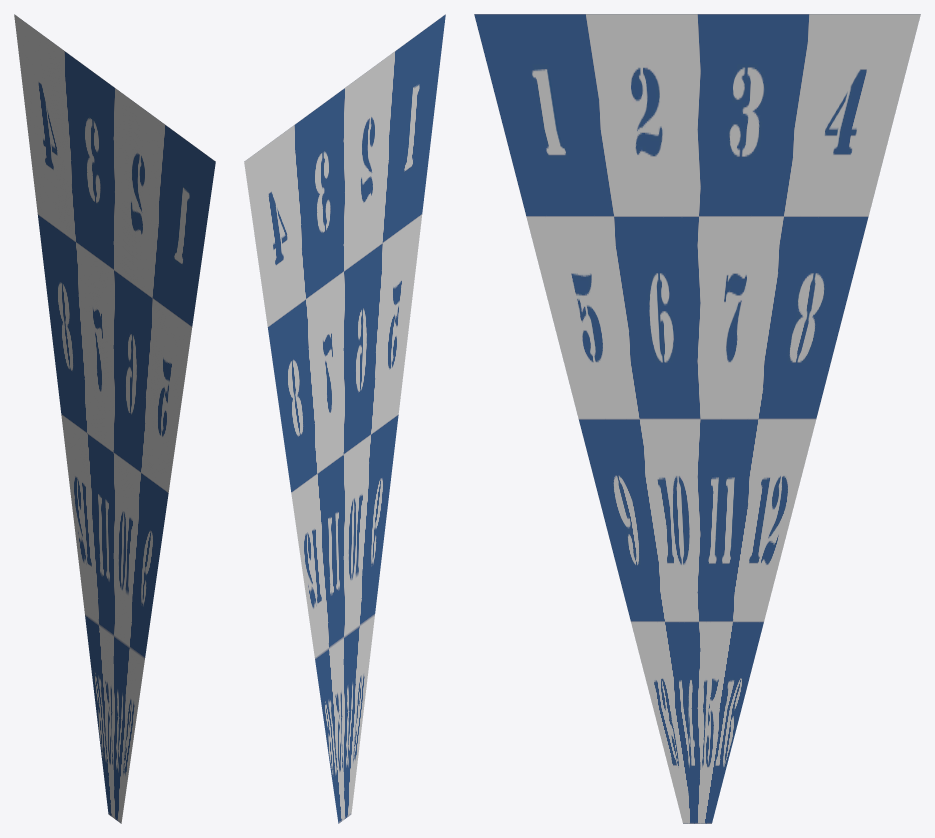
Rendered from Akaza_Angry1.fbx.
3 renders of one model, left to right at view 1: azimuth 30°, elevation 25°; view 2: azimuth 150°, elevation 25°; view 3: azimuth 270°, elevation 25°, orthographic. The views are drawn at different scales.
Visible parts, largest first — view 1: SM_e_Plc_P1012_Angry001; view 2: SM_e_Plc_P1012_Angry001; view 3: SM_e_Plc_P1012_Angry001.
Part boxes in pixels (x1,y1,x2,y2): SM_e_Plc_P1012_Angry001: (14, 14, 215, 823); SM_e_Plc_P1012_Angry001: (244, 14, 445, 823); SM_e_Plc_P1012_Angry001: (474, 14, 920, 823).
Bounding box in the file's own units: 9.56e-06 × 100 × 50.
